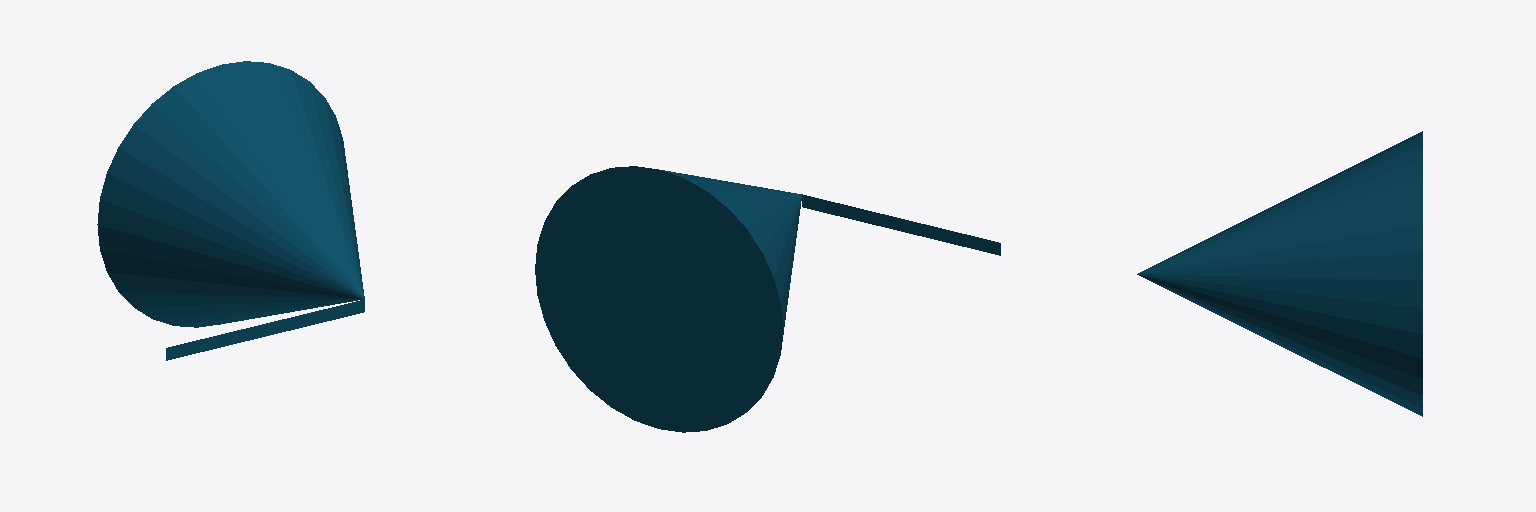
The model's file is streamer.obj.
3 renders of one model, left to right at view 1: azimuth 30°, elevation 25°; view 2: azimuth 150°, elevation 25°; view 3: azimuth 270°, elevation 25°, orthographic.
Parts seen in each view (by area): view 1: Cone; view 2: Cone; view 3: Cone.
Part boxes in pixels (bbox=[...]): Cone: bbox=[97, 61, 364, 360]; Cone: bbox=[535, 166, 1000, 432]; Cone: bbox=[1137, 131, 1422, 416].
Size of the model in its own units: 2.6 by 2 by 2.